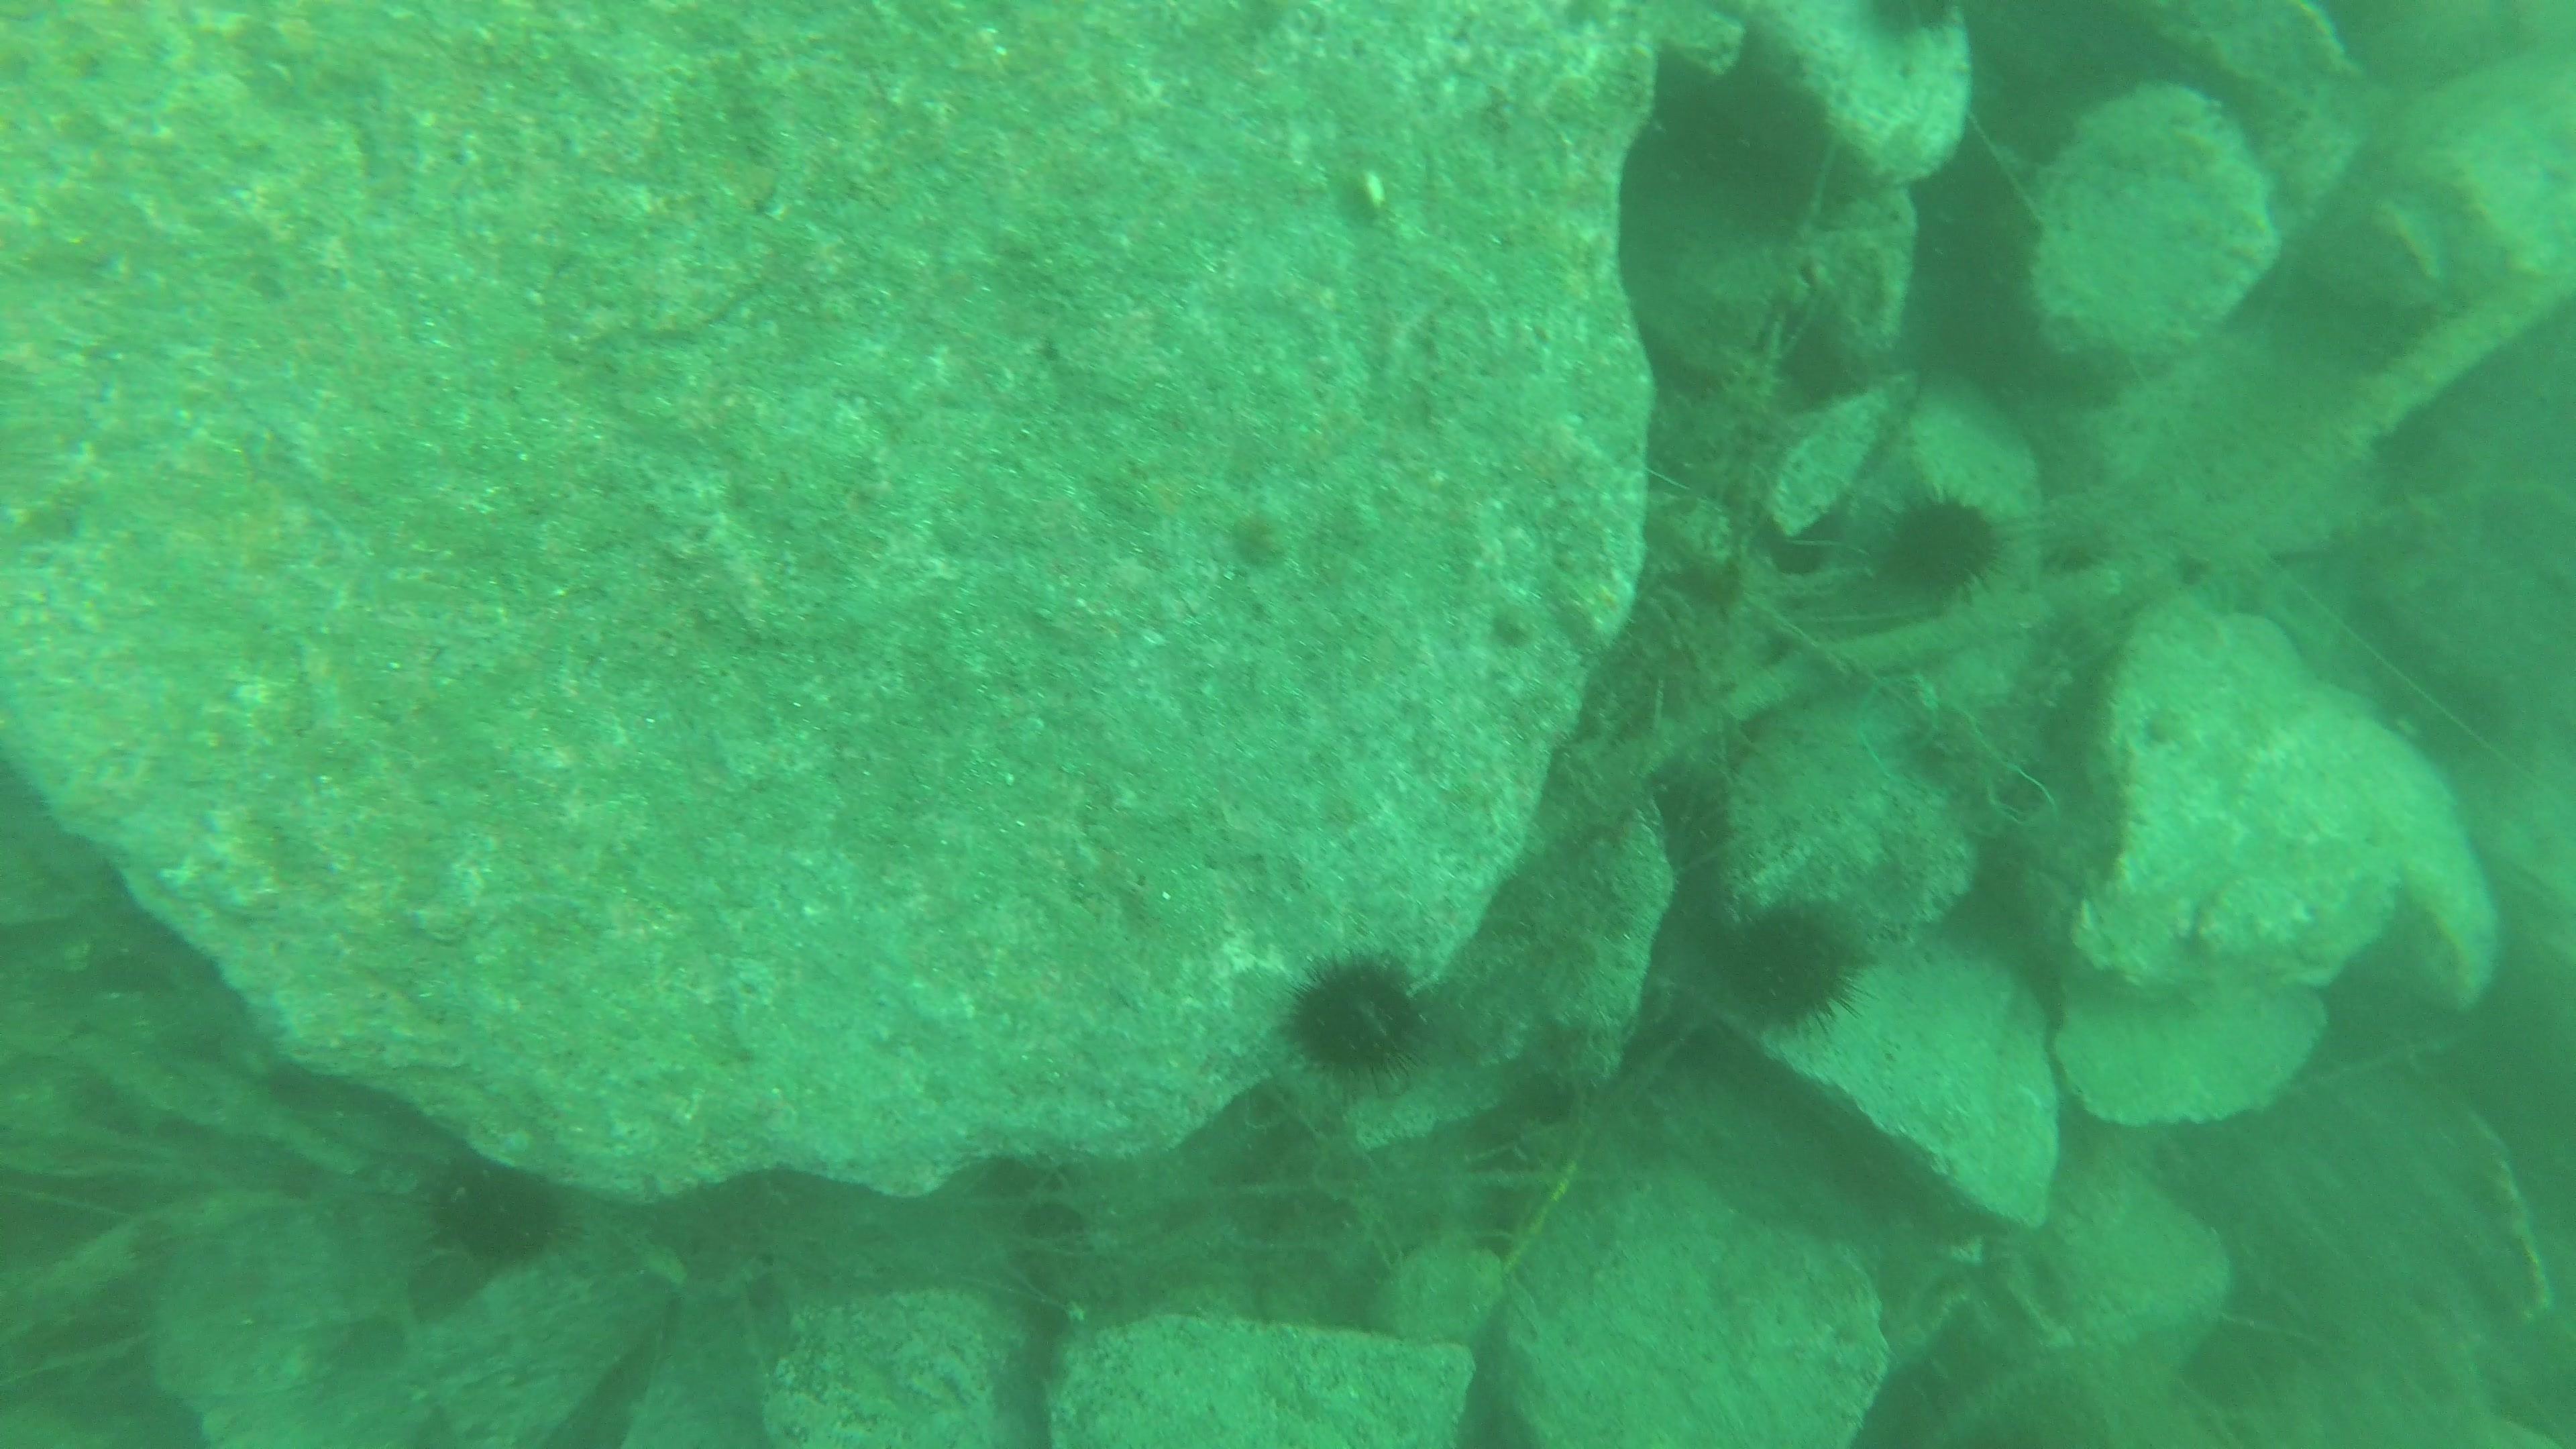echinus: (1711, 893, 1868, 1039), (1277, 947, 1433, 1088), (419, 1150, 577, 1272), (1867, 483, 2010, 609), (1847, 0, 1966, 55)
